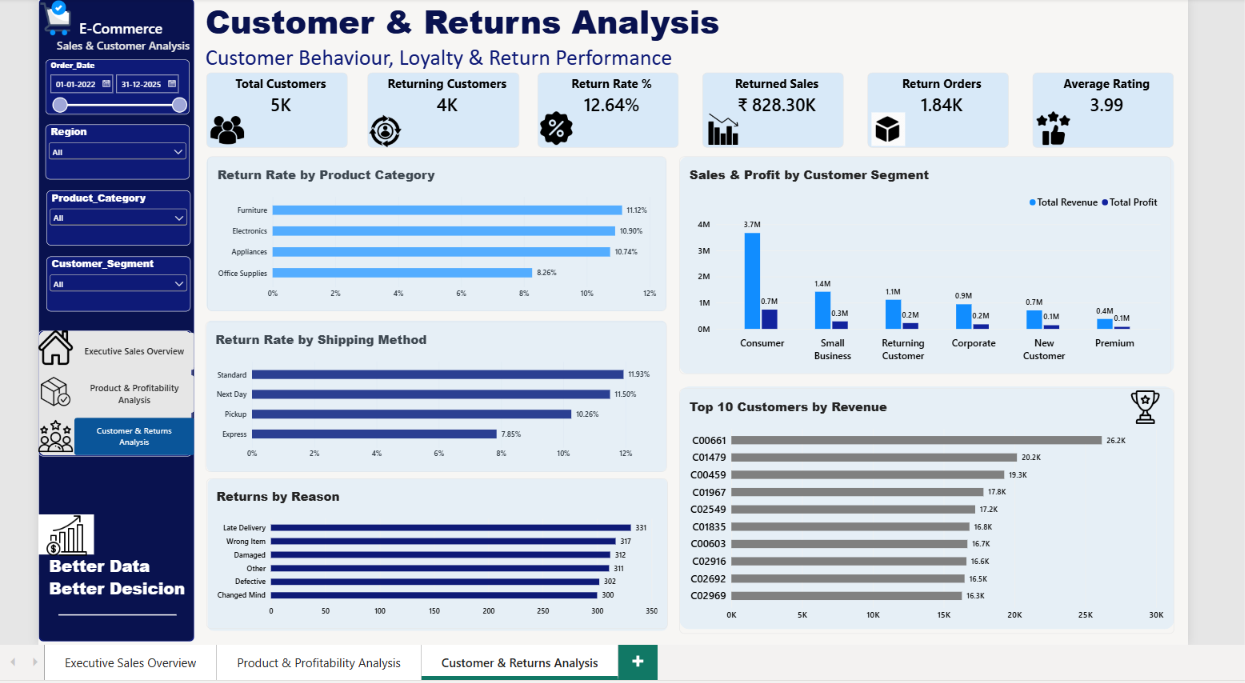

The page's visual inventory and layout, read from the dashboard file:
{"tool":"powerbi","page":{"name":"Customer & Returns Analysis","canvas":[1920,1080],"ordinal":2},"visuals":[{"type":"shape","box":[0,0,260.6,1074],"z":0},{"type":"textbox","box":[278.7,0,939.2,128.5],"z":1000},{"type":"textbox","box":[0,32.6,260.6,81.4],"z":2000},{"type":"image","box":[0,1.8,57.9,61.5],"z":3000},{"type":"slicer","fields":{"Values":["Cleaned CSV.Order_Date"]},"box":[10.9,101.3,240.7,92.3],"z":4000},{"type":"slicer","fields":{"Values":["Cleaned CSV.Region"]},"box":[10.9,209.9,240.7,92.3],"z":5000},{"type":"slicer","fields":{"Values":["Cleaned CSV.Product_Category"]},"box":[12.7,320.3,240.7,92.3],"z":6000},{"type":"slicer","fields":{"Values":["Cleaned CSV.Customer_Segment"]},"box":[12.7,430.7,240.7,92.3],"z":7000},{"type":"cardVisual","fields":{"Data":["Cleaned CSV.Total Customers"]},"box":[281,122.8,236.3,126.5],"z":8000},{"type":"image","box":[273.5,191.7,83.7,55.8],"z":9000},{"type":"cardVisual","fields":{"Data":["Cleaned CSV.Returning Customers"]},"box":[548.9,122.8,254.9,126.5],"z":10000},{"type":"cardVisual","fields":{"Data":["Cleaned CSV.Return Rate %"]},"box":[832.7,122.8,236,126.7],"z":11000},{"type":"cardVisual","fields":{"Data":["Cleaned CSV.Returned Sales"]},"box":[1108.4,122.8,236,126.7],"z":12000},{"type":"cardVisual","fields":{"Data":["Cleaned CSV.Return Orders"]},"box":[1384.2,122.8,236,126.7],"z":13000},{"type":"cardVisual","fields":{"Data":["Cleaned CSV.Average Rating"]},"box":[1659.9,122.8,236,126.7],"z":14000},{"type":"image","box":[822.5,187.9,83.7,55.8],"z":15000},{"type":"image","box":[1377,189.8,83.7,55.8],"z":16000},{"type":"image","box":[1652.4,187.9,83.7,55.8],"z":17000},{"type":"image","box":[1101.6,189.8,83.7,55.8],"z":18000},{"type":"image","box":[537.8,193.5,83.7,55.8],"z":19000},{"type":"shape","box":[1070,264.2,826.2,362.9],"z":20000},{"type":"clusteredBarChart","title":"Return Rate by Product Category","fields":{"Y":["Cleaned CSV.Return Rate %"],"Category":["Cleaned CSV.Product_Category"]},"box":[282.8,264.2,766.7,258.7],"z":21000},{"type":"clusteredBarChart","title":"Return Rate by Shipping Method","fields":{"Y":["Cleaned CSV.Return Rate %"],"Category":["Cleaned CSV.Shipping_Method"]},"box":[279.1,539.6,770.4,251.2],"z":22000},{"type":"shape","box":[281,264.2,768.5,258.7],"z":23000},{"type":"shape","box":[1070,647.6,826.2,405.7],"z":24000},{"type":"clusteredBarChart","title":"Top 10 Customers by Revenue","fields":{"Category":["Cleaned CSV.Customer_ID"],"Y":["Sum(Cleaned CSV.Sales_Amount)"]},"box":[1070,651.3,826.2,409.4],"z":25000},{"type":"clusteredColumnChart","title":"Sales & Profit by Customer Segment","fields":{"Category":["Cleaned CSV.Customer_Segment"],"Y":["Sum(Cleaned CSV.Sales_Amount)","Sum(Cleaned CSV.Profit)"]},"box":[1070,264.2,820.6,362.9],"z":26000},{"type":"image","box":[1806.9,655,83.7,55.8],"z":27000},{"type":"shape","box":[282.8,802,768.5,254.9],"z":28000},{"type":"shape","box":[281,537.8,768.5,253.1],"z":29000},{"type":"clusteredBarChart","title":"Returns by Reason","fields":{"Category":["Cleaned CSV.Return_Reason"],"Y":["CountNonNull(Cleaned CSV.Return_Reason)"]},"box":[281,802,770.4,251.2],"z":30000},{"type":"shape","box":[0,554.5,256.8,210.3],"z":31000},{"type":"image","box":[0,554.5,57.7,57.7],"z":32000},{"type":"image","box":[0,629,57.7,54],"z":33000},{"type":"image","box":[0,696,57.7,68.9],"z":34000},{"type":"pageNavigator","box":[59.5,558.2,201,206.6],"z":35000},{"type":"textbox","box":[0,928.6,256.8,91.2],"z":36000},{"type":"shape","box":[0,861.6,93,67],"z":37000},{"type":"image","box":[0,863.4,94.9,67],"z":38000},{"type":"shape","box":[33.5,1004.8,197.2,48.4],"z":38001}]}

Visuals, with their boxes on the page's 1920x1080 design canvas (x1, y1, x2, y2). These are canvas units, not pixel positions in the 1245x683 screenshot, which may show the page scaled, cropped or inside an application window:
shape: [0,0,261,1074]
textbox: [279,0,1218,128]
textbox: [0,33,261,114]
image: [0,2,58,63]
slicer - Cleaned CSV.Order_Date: [11,101,252,194]
slicer - Cleaned CSV.Region: [11,210,252,302]
slicer - Cleaned CSV.Product_Category: [13,320,253,413]
slicer - Cleaned CSV.Customer_Segment: [13,431,253,523]
cardVisual - Cleaned CSV.Total Customers: [281,123,517,249]
image: [274,192,357,248]
cardVisual - Cleaned CSV.Returning Customers: [549,123,804,249]
cardVisual - Cleaned CSV.Return Rate %: [833,123,1069,250]
cardVisual - Cleaned CSV.Returned Sales: [1108,123,1344,250]
cardVisual - Cleaned CSV.Return Orders: [1384,123,1620,250]
cardVisual - Cleaned CSV.Average Rating: [1660,123,1896,250]
image: [822,188,906,244]
image: [1377,190,1461,246]
image: [1652,188,1736,244]
image: [1102,190,1185,246]
image: [538,194,622,249]
shape: [1070,264,1896,627]
"Return Rate by Product Category" clusteredBarChart: [283,264,1050,523]
"Return Rate by Shipping Method" clusteredBarChart: [279,540,1050,791]
shape: [281,264,1050,523]
shape: [1070,648,1896,1053]
"Top 10 Customers by Revenue" clusteredBarChart: [1070,651,1896,1061]
"Sales & Profit by Customer Segment" clusteredColumnChart: [1070,264,1891,627]
image: [1807,655,1891,711]
shape: [283,802,1051,1057]
shape: [281,538,1050,791]
"Returns by Reason" clusteredBarChart: [281,802,1051,1053]
shape: [0,554,257,765]
image: [0,554,58,612]
image: [0,629,58,683]
image: [0,696,58,765]
pageNavigator: [60,558,260,765]
textbox: [0,929,257,1020]
shape: [0,862,93,929]
image: [0,863,95,930]
shape: [34,1005,231,1053]
